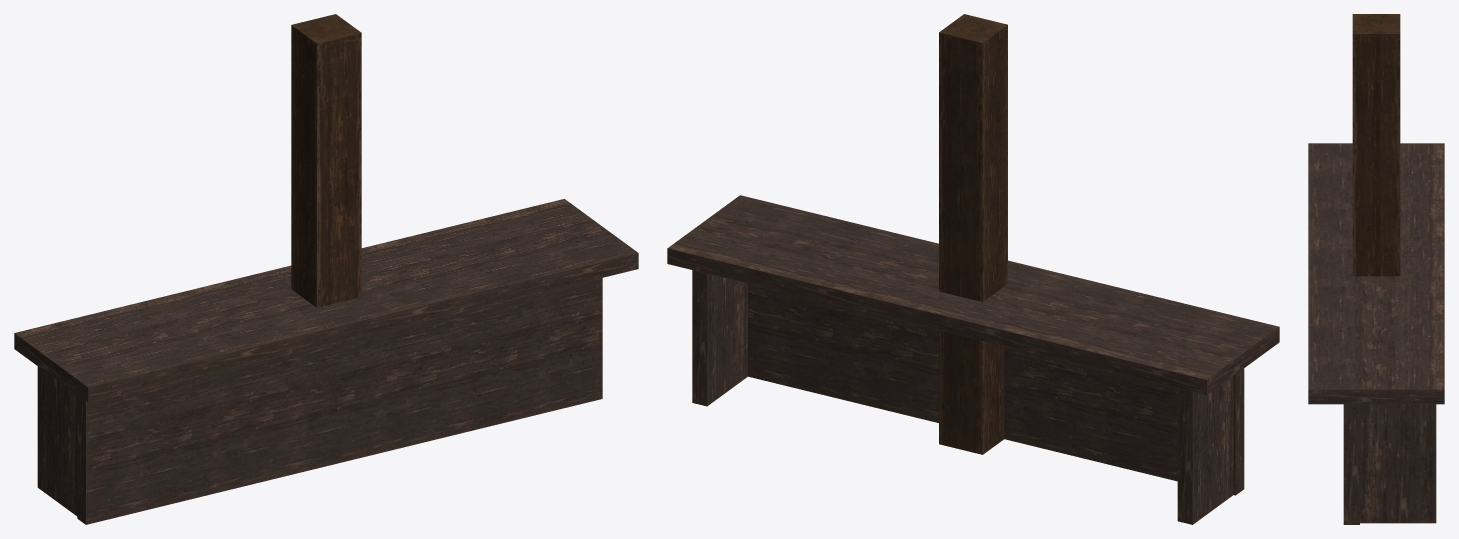
File: TavernBar.glb
3 renders of one model, left to right at view 1: azimuth 30°, elevation 25°; view 2: azimuth 150°, elevation 25°; view 3: azimuth 270°, elevation 25°, orthographic. The views are drawn at different scales.
Visible parts, largest first — view 1: TavernBar, TavernBarBeam; view 2: TavernBar, TavernBarBeam; view 3: TavernBar, TavernBarBeam.
Part boxes in pixels (left/top/right/bottom): TavernBar: left=14, top=199, right=638, bottom=524; TavernBarBeam: left=291, top=14, right=361, bottom=307; TavernBar: left=667, top=195, right=1279, bottom=524; TavernBarBeam: left=939, top=14, right=1007, bottom=454; TavernBar: left=1308, top=143, right=1444, bottom=524; TavernBarBeam: left=1352, top=14, right=1400, bottom=276.
Bounding box in the file's own units: 4.02 × 2.93 × 0.9385.
2 materials, 2 textured.
